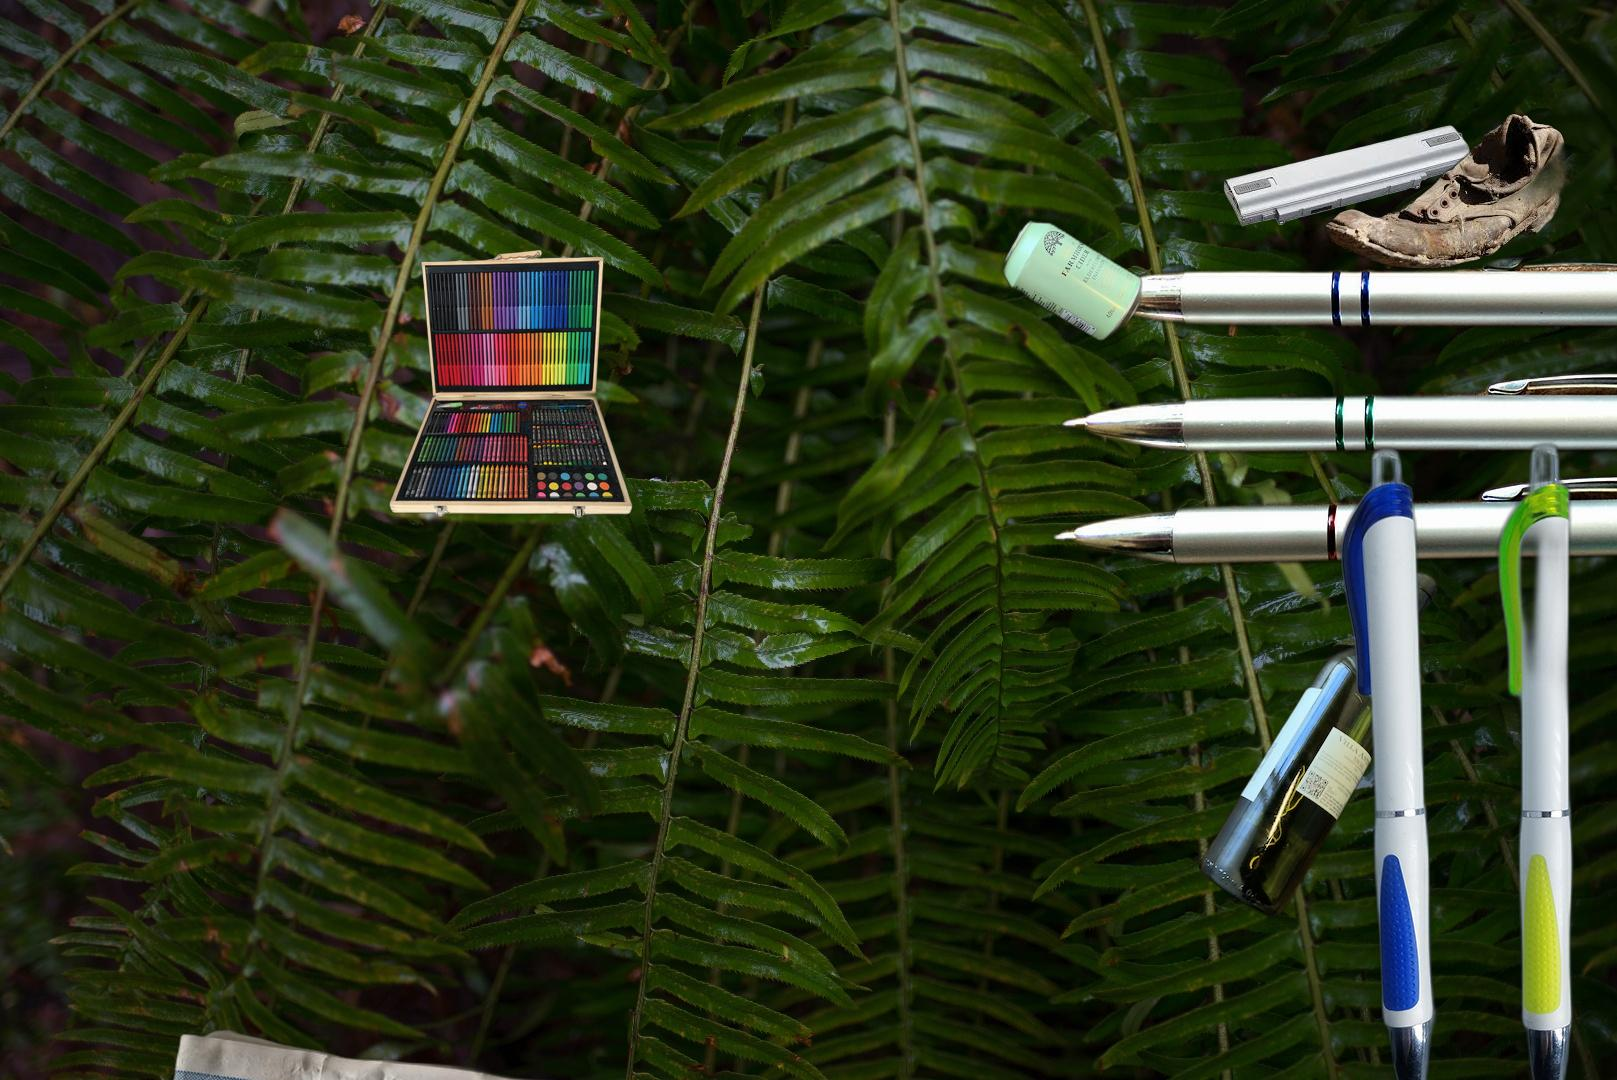battery: (1207, 77, 1482, 229)
glass: (1196, 567, 1442, 925)
metal-cans: (998, 215, 1147, 347)
paper: (161, 1027, 583, 1080)
penholder: (1047, 241, 1617, 573), (1334, 419, 1617, 1080), (386, 248, 655, 529)
shoes: (1309, 108, 1583, 292)
